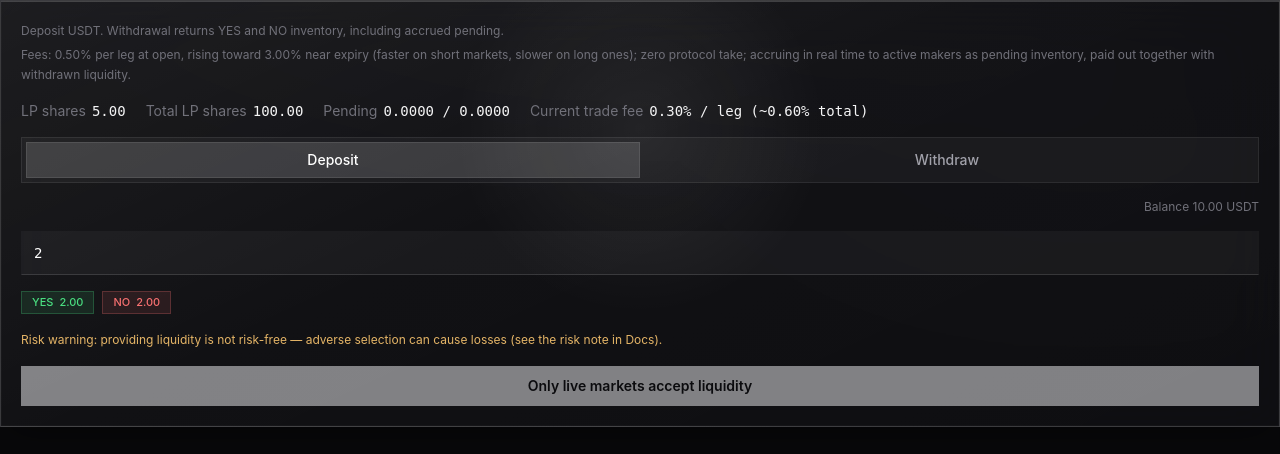
Test: LpDesk 前置校验 › Withdraw 模式：市场已过期仍允许撤出 LP，份额不足时禁用
Click the button "Withdraw". click: (947, 160)
box: [640, 142, 1254, 178]
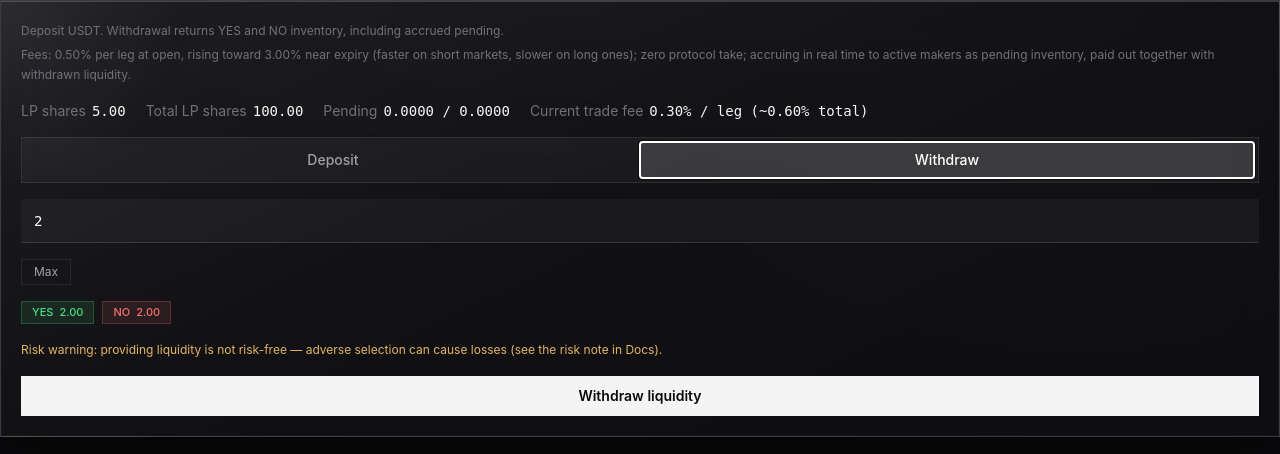
Result: the button "Withdraw liquidity" is enabled at [21, 376, 1259, 416]
Result: the button "Withdraw liquidity" is shown at [21, 376, 1259, 416]
Replace the text in the field with "6". click: (640, 221)
box: [21, 199, 1259, 243]
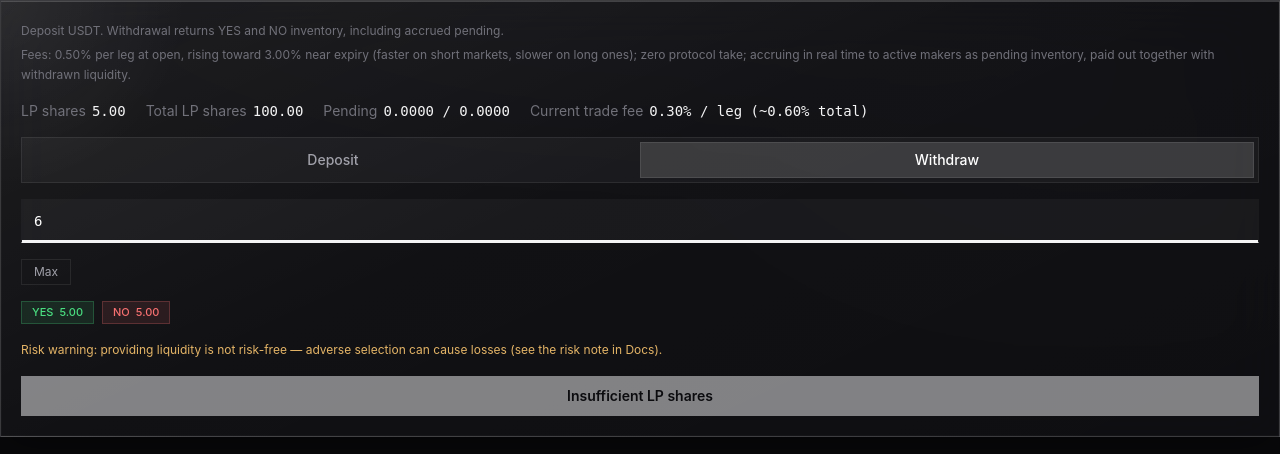
Result: the button "Insufficient LP shares" is disabled at [21, 376, 1259, 416]
Result: the button "Insufficient LP shares" is shown at [21, 376, 1259, 416]
